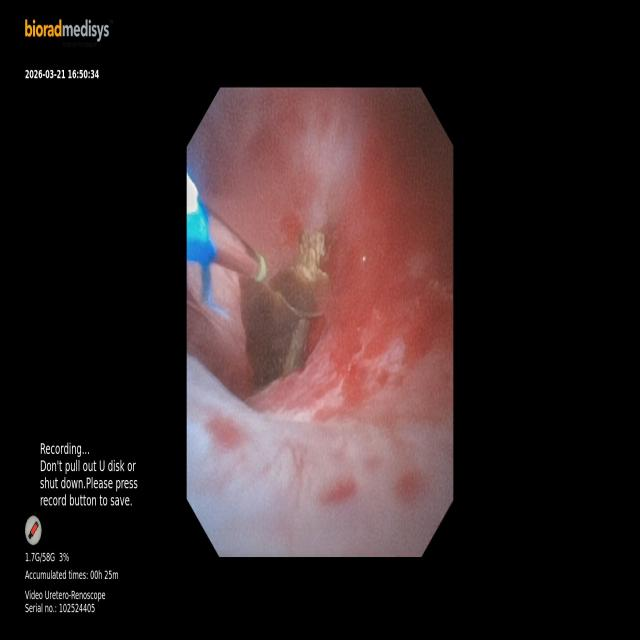laser-fibre: (209, 211, 266, 281)
stone-new: (241, 278, 309, 388), (271, 232, 328, 316)
